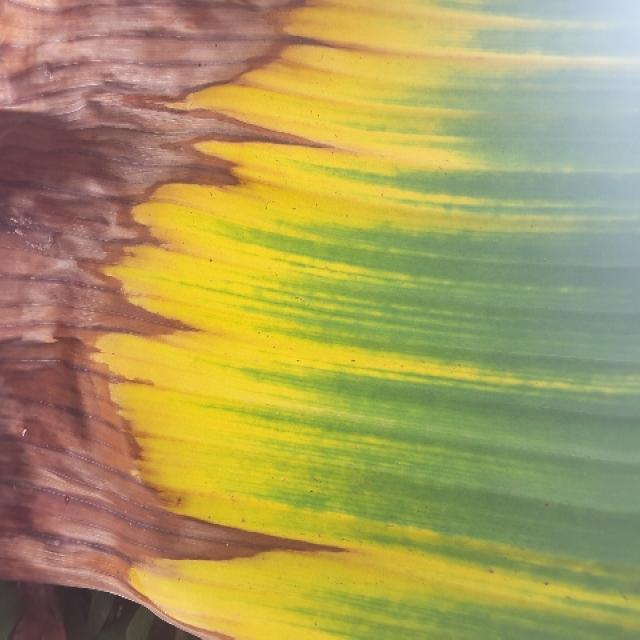Cordana: (79, 2, 629, 640)
